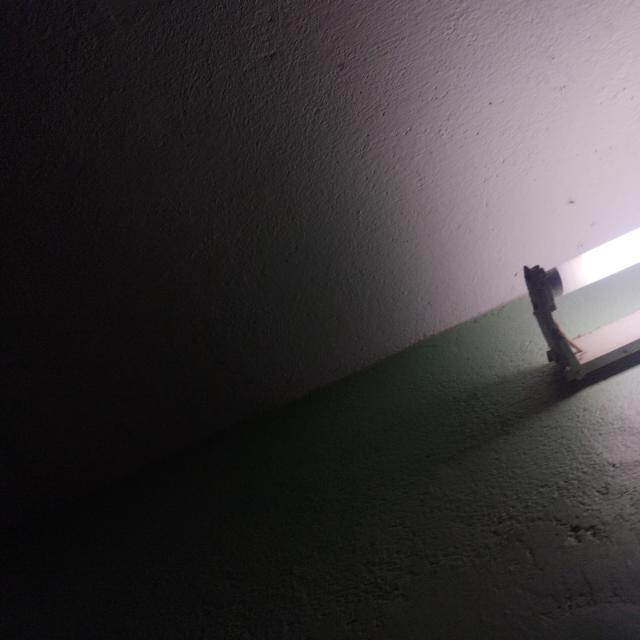tubelight_on: (519, 218, 640, 399)
